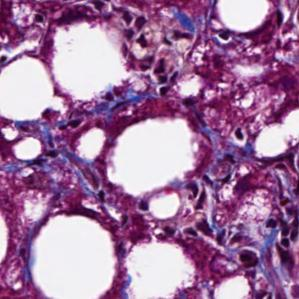inflammation: (119, 18, 195, 99), (179, 174, 240, 250), (261, 178, 299, 273)
